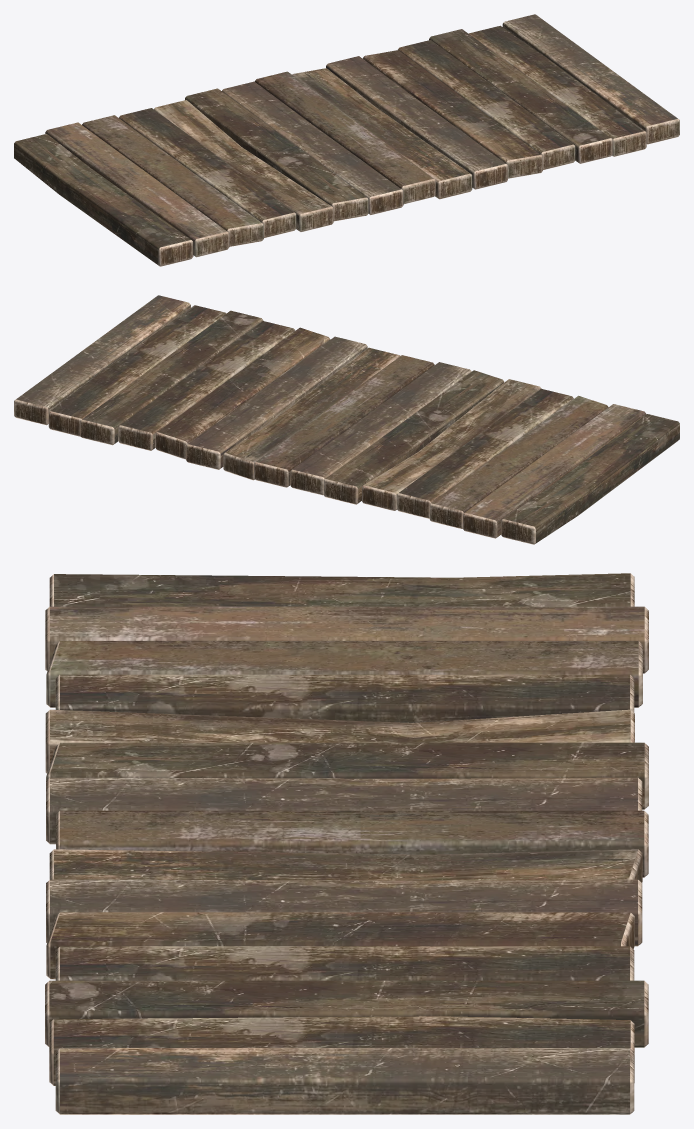
3 renders of one model, top to bottom at view 1: azimuth 30°, elevation 25°; view 2: azimuth 150°, elevation 25°; view 3: azimuth 270°, elevation 25°, orthographic. The views are drawn at different scales.
Parts seen in each view (by area): view 1: SM_Human_Ruins_Floor_Wood_04_LOD0; view 2: SM_Human_Ruins_Floor_Wood_04_LOD0; view 3: SM_Human_Ruins_Floor_Wood_04_LOD0.
Boxes of the visible parts, x1,y1,x2,y2 form: SM_Human_Ruins_Floor_Wood_04_LOD0: (14, 14, 679, 266); SM_Human_Ruins_Floor_Wood_04_LOD0: (14, 295, 679, 544); SM_Human_Ruins_Floor_Wood_04_LOD0: (45, 573, 648, 1114).
Size of the model in its own units: 4 by 0.1882 by 2.
Materials: 1 (1 with a texture image).
